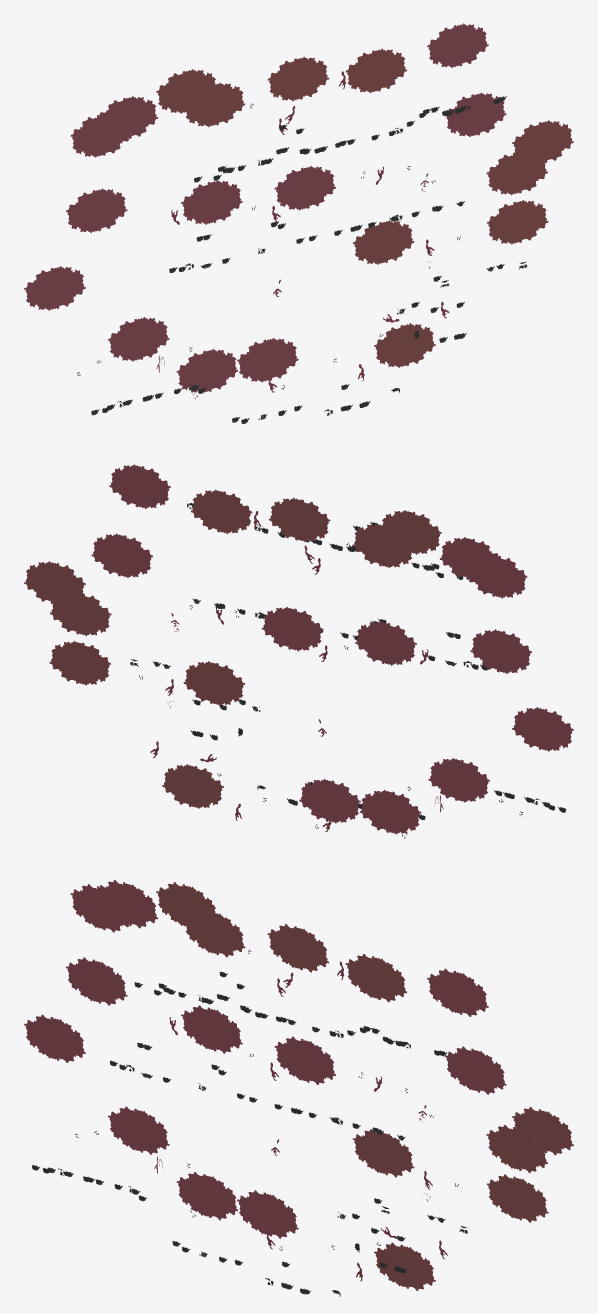
Rendered from nightmare04_bg.glb.
3 views of the same model, one above another, from view 1: azimuth 30°, elevation 25°; view 2: azimuth 150°, elevation 25°; view 3: azimuth 330°, elevation 25° (orthographic).
Parts seen in each view (by area): view 1: nightmare04_bg; view 2: nightmare04_bg; view 3: nightmare04_bg.
Boxes of the visible parts, <box> form: nightmare04_bg: <box>24,23,573,423</box>; nightmare04_bg: <box>24,464,573,838</box>; nightmare04_bg: <box>24,880,573,1296</box>.
Size of the model in its own units: 3291 by 1958 by 298.
5 materials, 5 textured.
